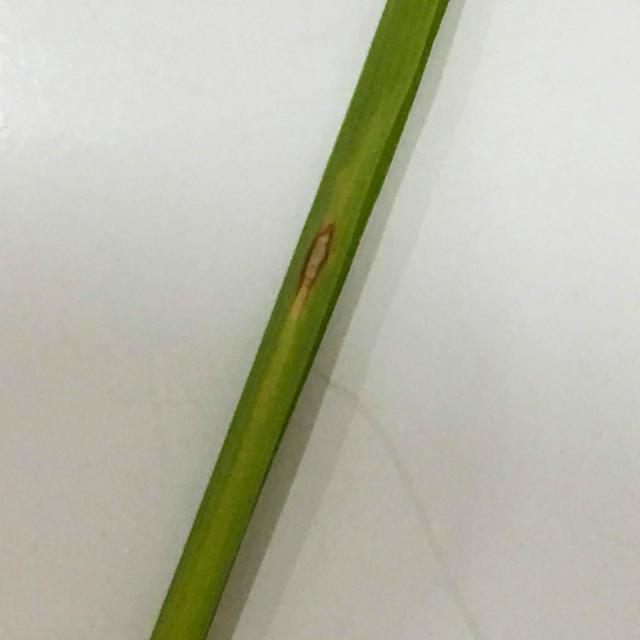Leaf blast: (114, 0, 540, 640)
